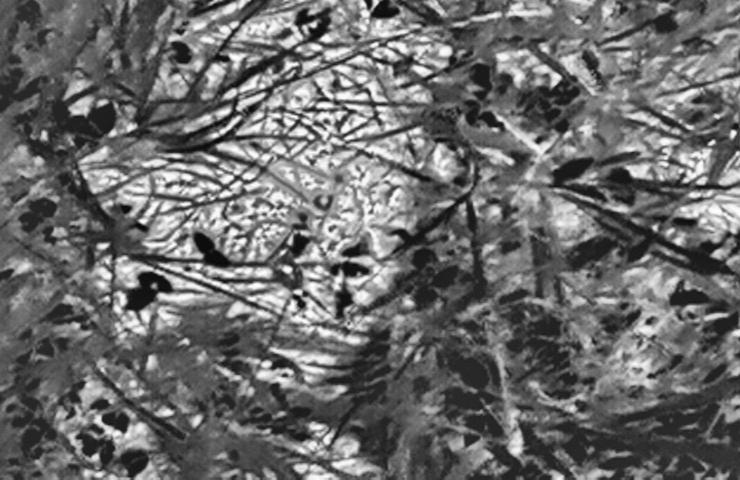landmines: (84, 3, 422, 354)
